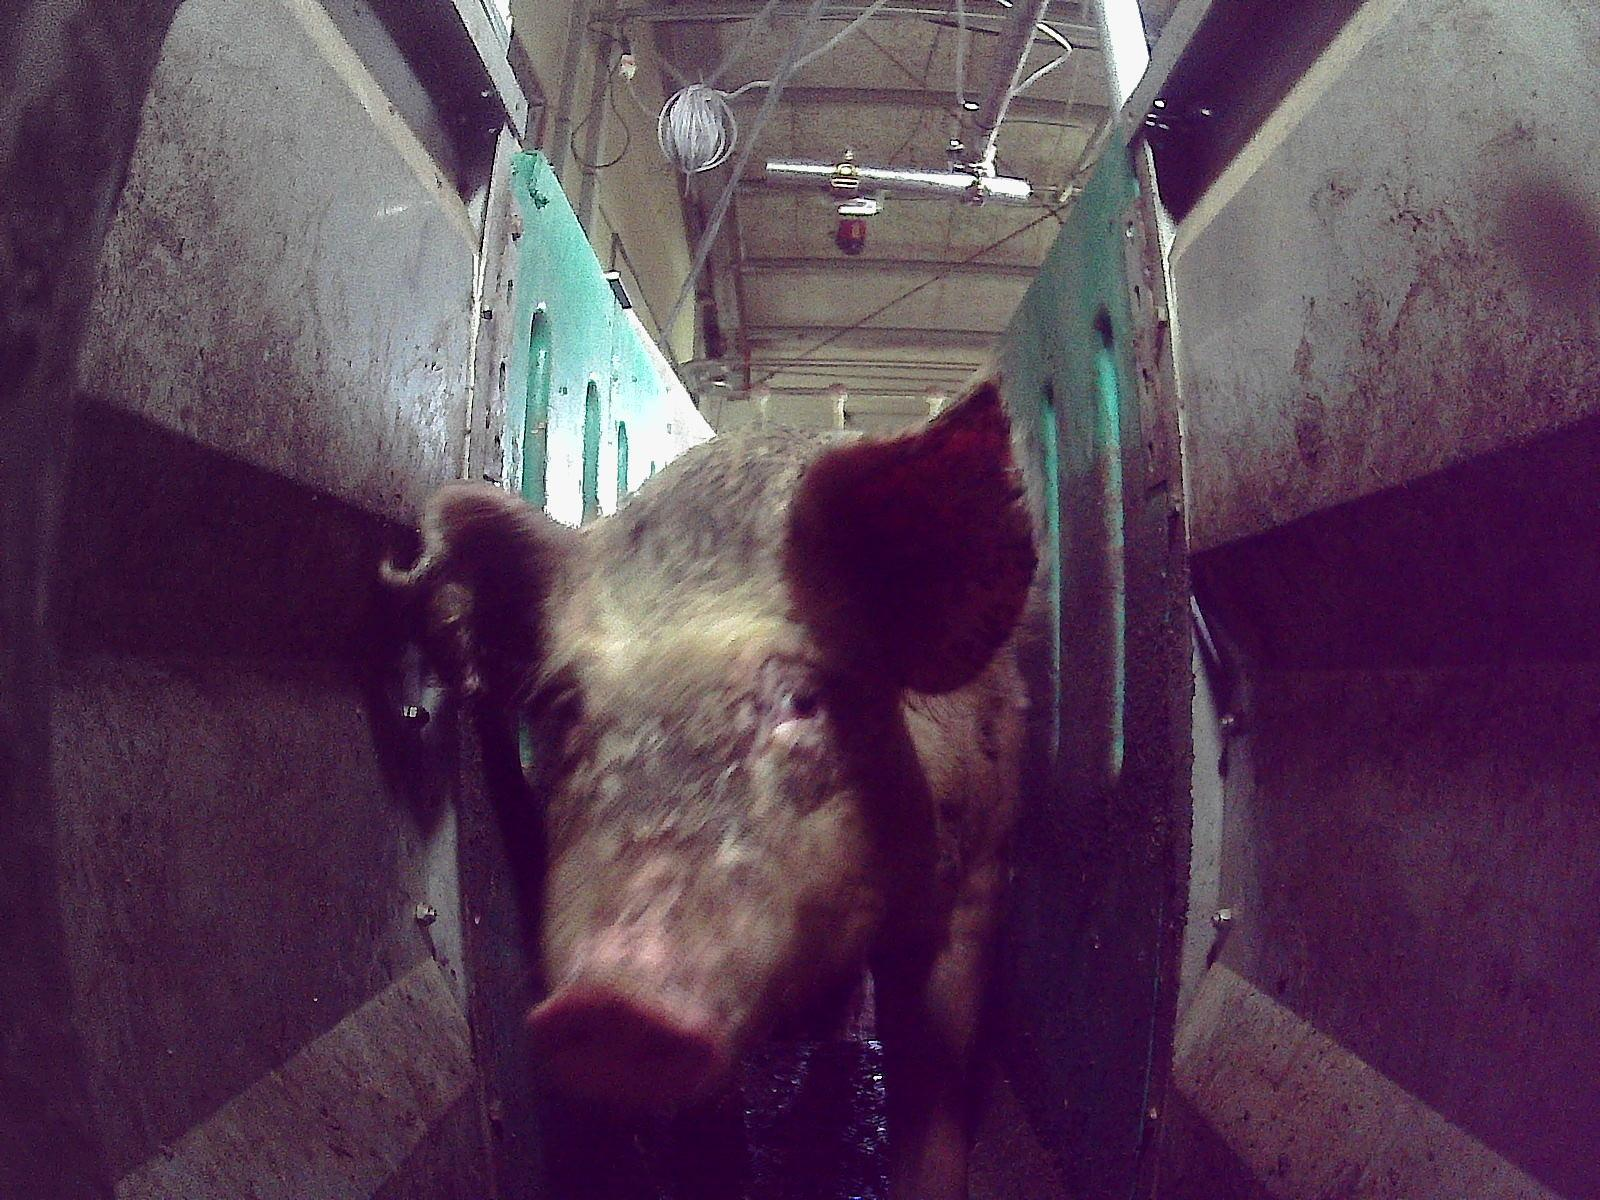Face: (520, 490, 900, 1118)
